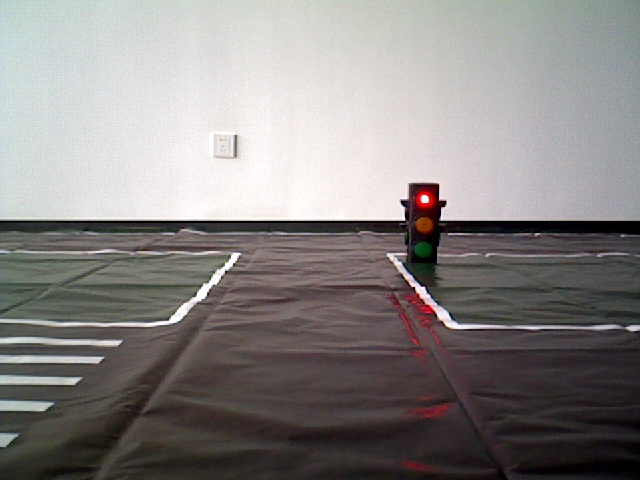red: (410, 184, 438, 261)
